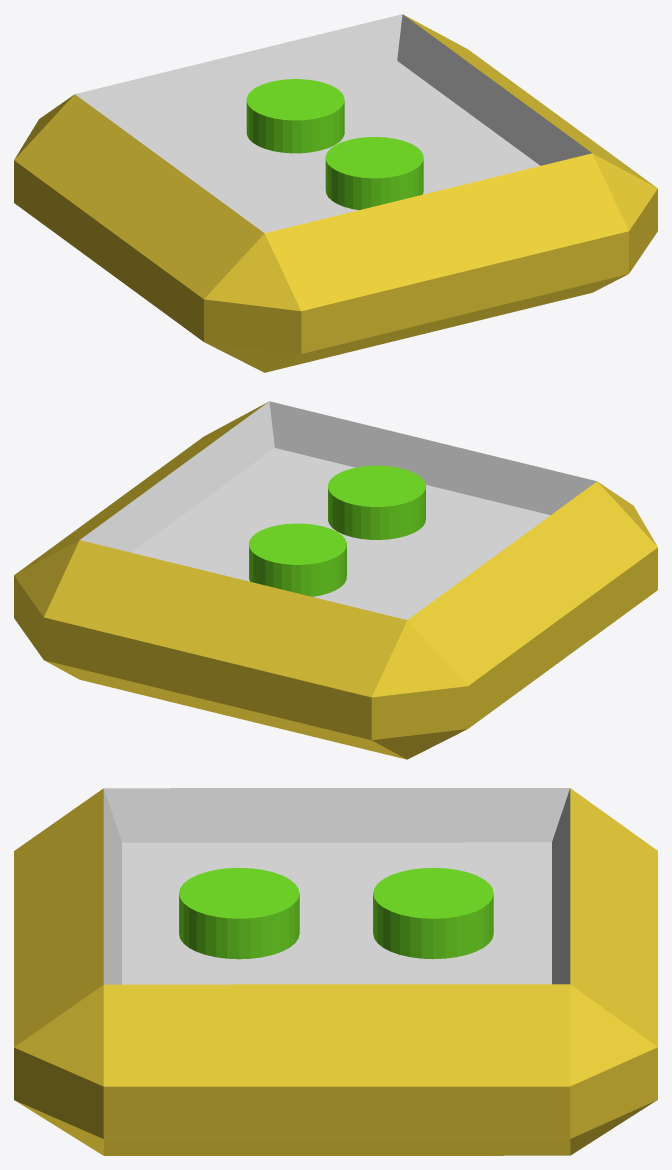
Rendered from aitem increase.fbx.
3 views of the same model, one above another, from view 1: azimuth 30°, elevation 25°; view 2: azimuth 150°, elevation 25°; view 3: azimuth 270°, elevation 25° (orthographic). The views are drawn at different scales.
Parts seen in each view (by area): view 1: Cube; view 2: Cube; view 3: Cube.
Boxes of the visible parts, left/top/right/bottom form: Cube: left=14, top=14, right=657, bottom=372; Cube: left=14, top=401, right=657, bottom=759; Cube: left=14, top=788, right=657, bottom=1155.
Bounding box in the file's own units: 200 × 58.84 × 200.
